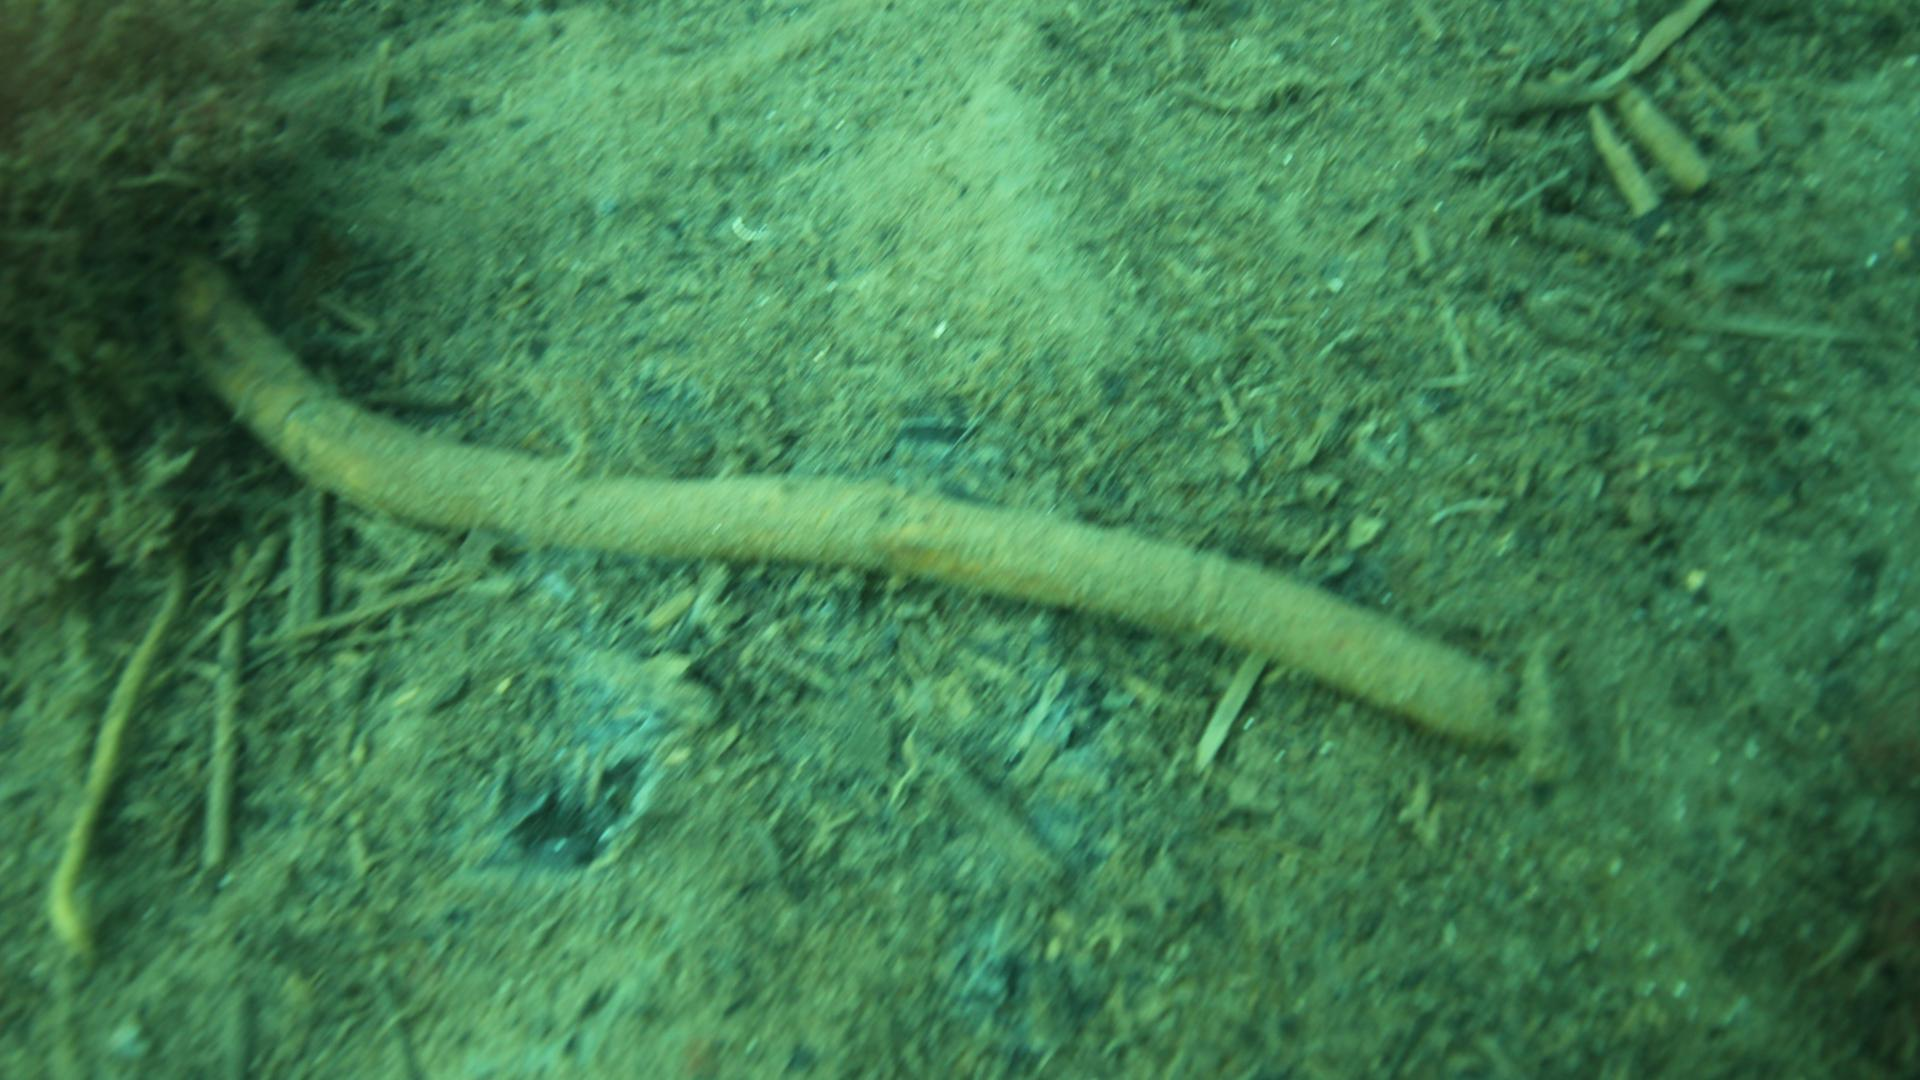wood: (194, 295, 1511, 750)
